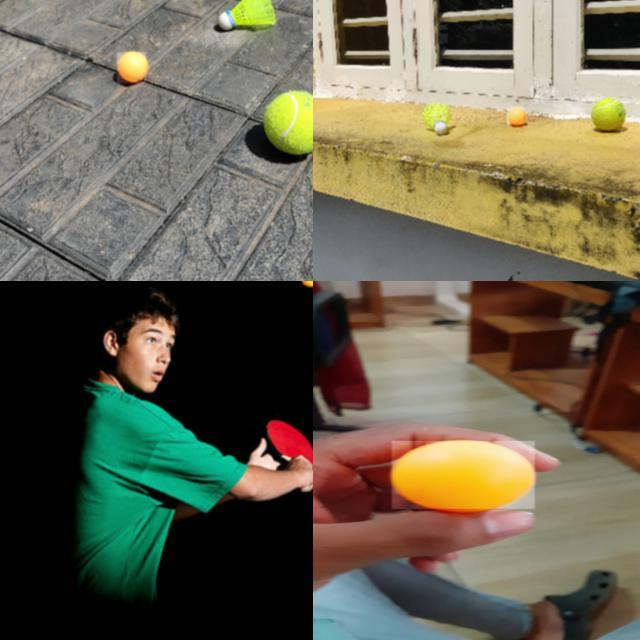ping-pong-ball: (392, 440, 536, 510), (117, 52, 147, 84), (507, 107, 525, 125), (302, 281, 312, 287)
